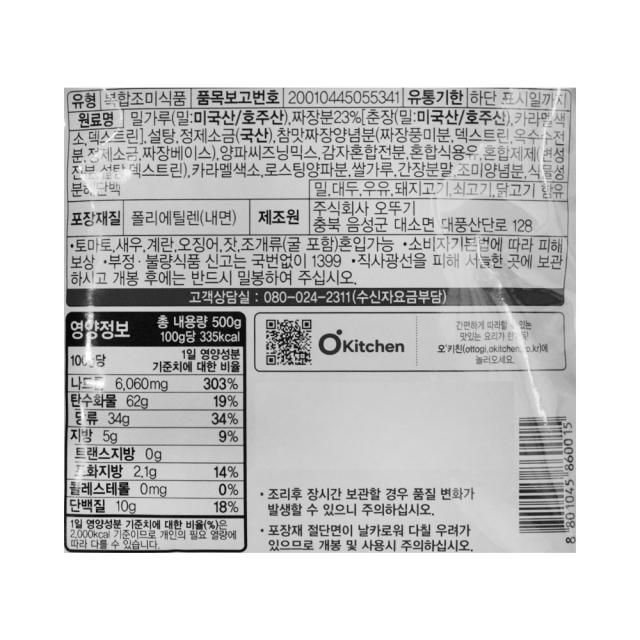Nutrition Label: (62, 307, 257, 557)
